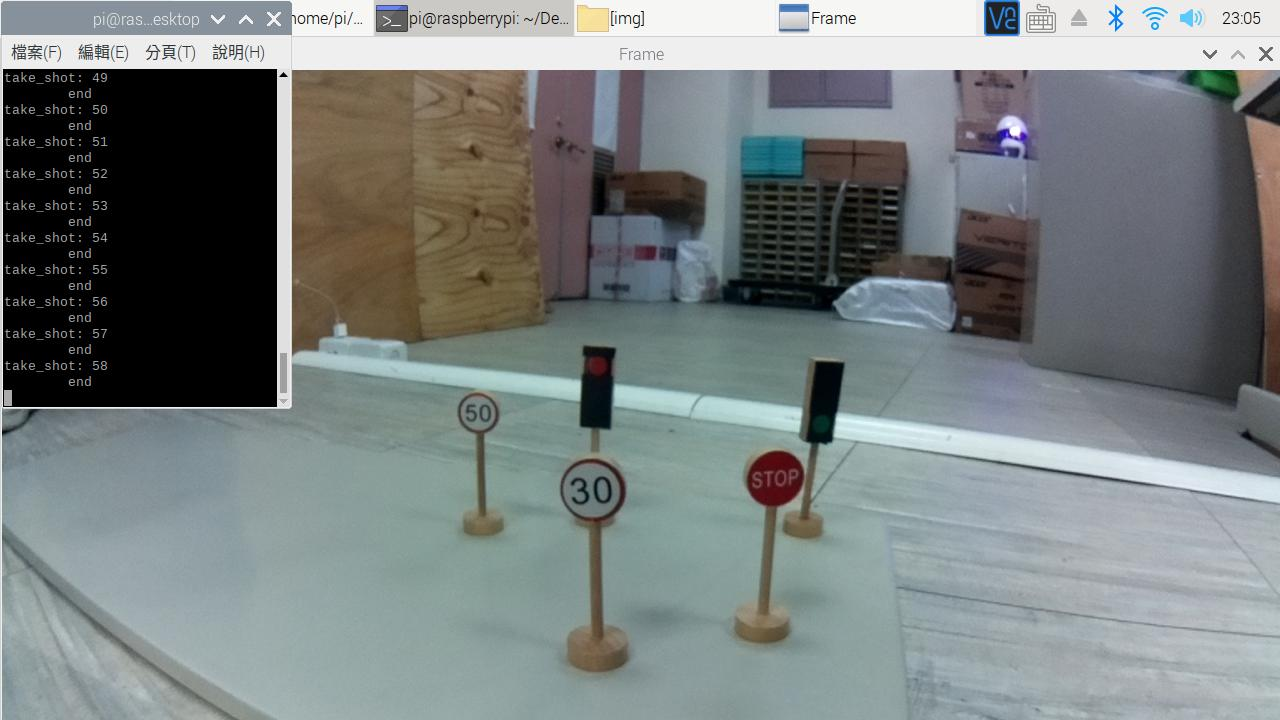Green: (804, 359, 840, 441)
Red: (576, 342, 620, 430)
Speed30: (551, 455, 631, 529)
Speed50: (453, 388, 503, 434)
Stop: (740, 449, 809, 511)
